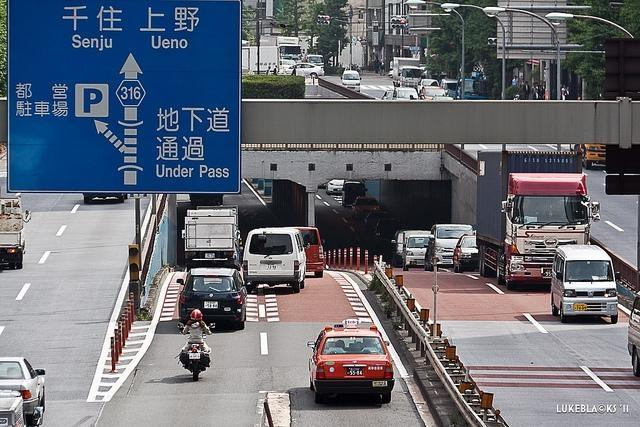car: (306, 324, 394, 402), (550, 244, 622, 324), (174, 267, 247, 329), (239, 228, 307, 294), (0, 358, 48, 420), (423, 223, 472, 270), (625, 286, 640, 376), (454, 234, 478, 274), (362, 207, 392, 239), (388, 229, 408, 268), (351, 197, 382, 219), (418, 85, 448, 100), (392, 86, 418, 100)
motorcycle: (182, 344, 210, 381)
truck: (479, 153, 591, 281), (182, 204, 243, 270), (0, 196, 32, 270)
